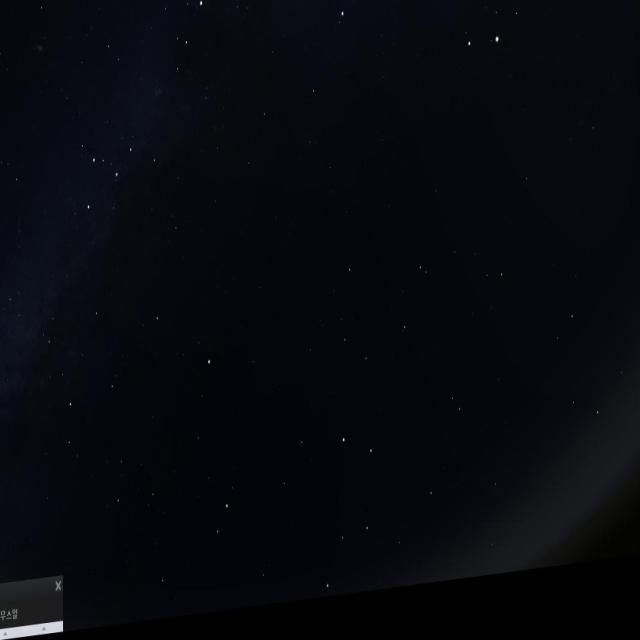cassiopeia: (77, 117, 164, 234)
